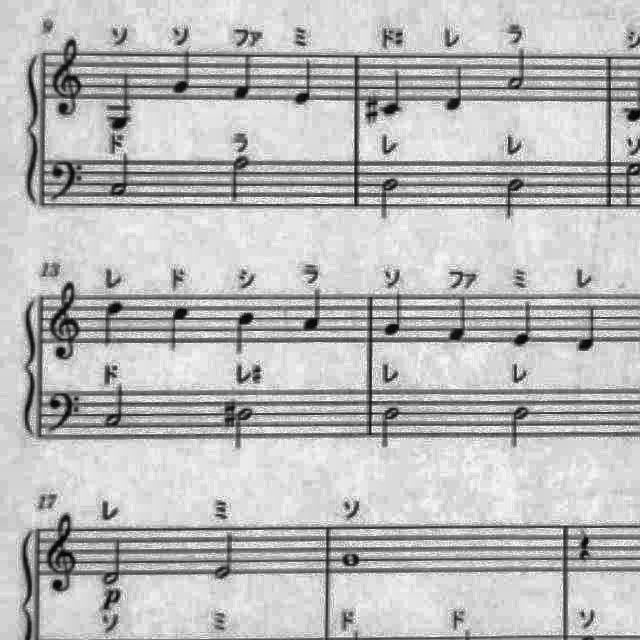Bass-clef: (47, 157, 89, 210), (46, 388, 86, 439)
Diez: (361, 92, 379, 126), (221, 396, 237, 432)
Full-note: (338, 548, 366, 572)
Half-note: (98, 532, 130, 590), (210, 528, 242, 584), (506, 400, 534, 452), (108, 148, 136, 200), (101, 381, 129, 432), (225, 151, 251, 205), (500, 173, 528, 223), (377, 401, 405, 451), (376, 175, 404, 225), (506, 46, 532, 96), (232, 403, 258, 453)
Quarter-note: (108, 72, 140, 136), (98, 295, 130, 349), (165, 300, 195, 354), (574, 300, 602, 356), (509, 296, 538, 350), (378, 66, 406, 120), (445, 292, 473, 346), (231, 49, 259, 103), (378, 290, 407, 342), (297, 288, 327, 338), (169, 46, 197, 98), (232, 308, 260, 359), (292, 56, 316, 110), (444, 64, 468, 116)
Quarter-rest: (572, 524, 600, 566)
Treble-clef: (43, 509, 85, 598), (50, 29, 90, 121), (46, 278, 86, 366)
